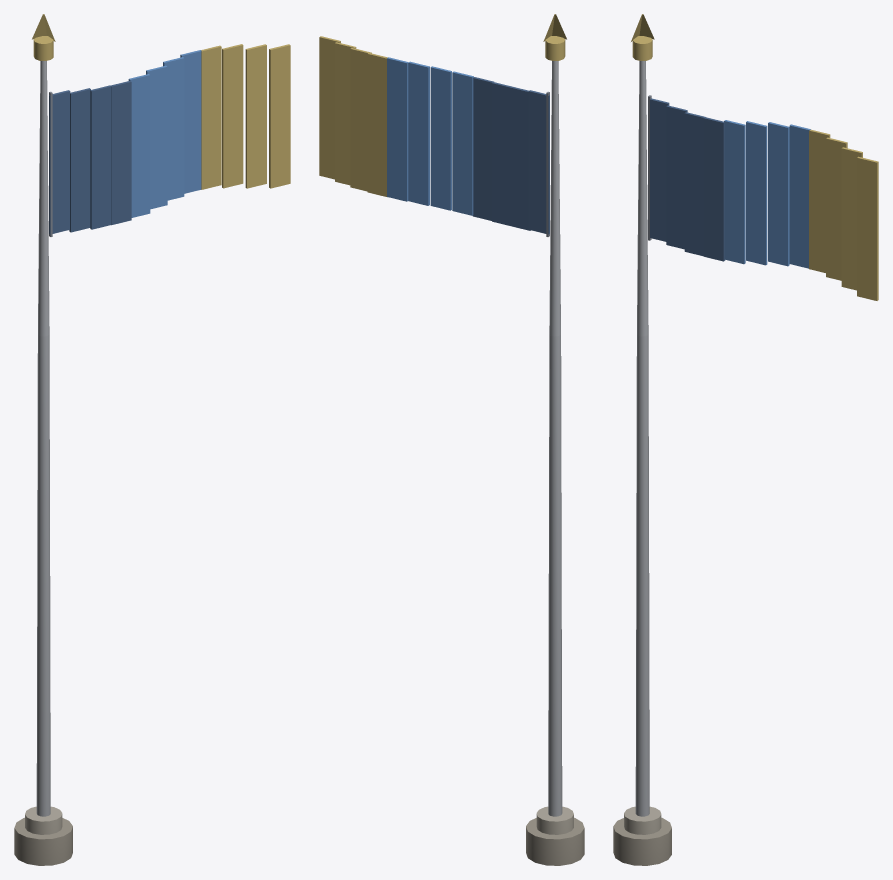
File: gate_mast.glb
The picture shows the model from 3 angles, left to right: view 1: azimuth 30°, elevation 25°; view 2: azimuth 150°, elevation 25°; view 3: azimuth 330°, elevation 25°; orthographic projection.
Parts seen in each view (by area): view 1: gate_mast; view 2: gate_mast; view 3: gate_mast.
Boxes of the visible parts, <box> form: gate_mast: <box>14,14,290,865</box>; gate_mast: <box>319,14,584,865</box>; gate_mast: <box>613,14,878,865</box>.
Bounding box in the file's own units: 6.79 × 20.48 × 1.27.
